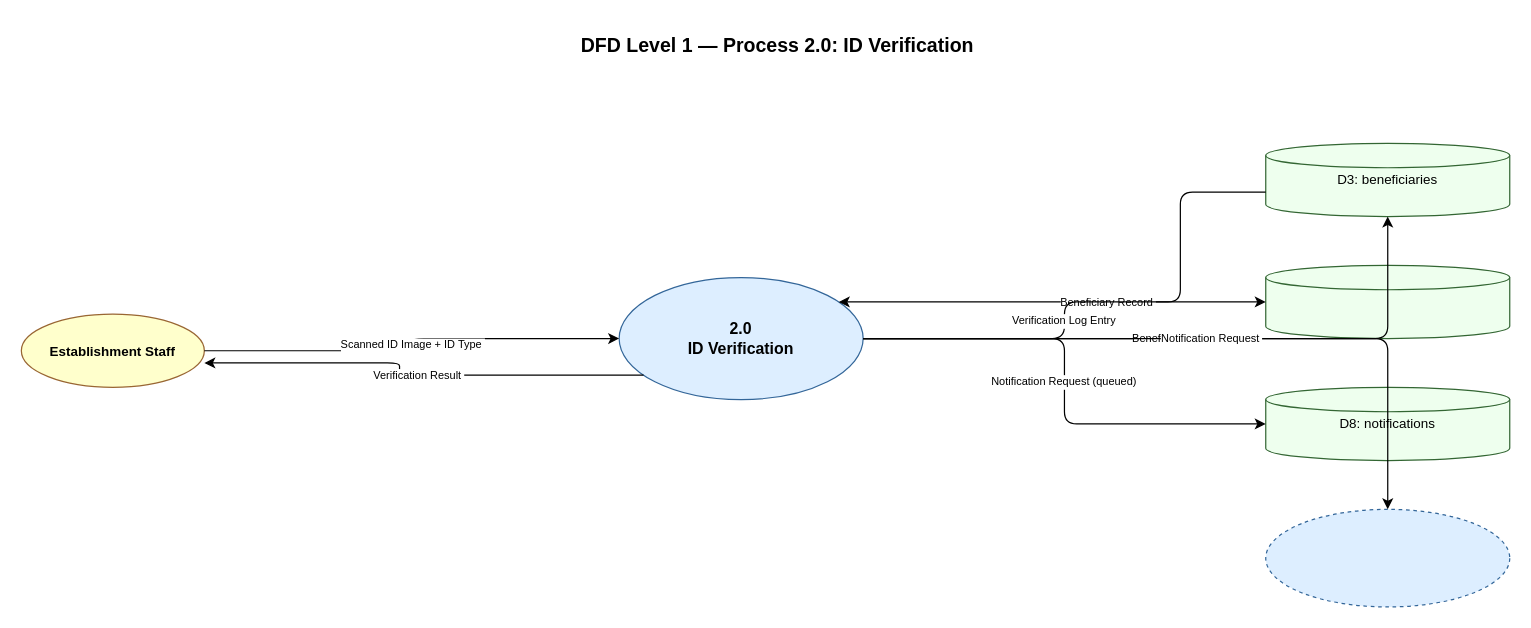
This 1531x628 diagram has some shape labels left out. The box of each missing label's shape, as (x1, y1, x2, y2) in pixels:
7.0 Notification Dispatch: (1265, 508, 1510, 607)
D5: verification_logs: (1265, 264, 1510, 339)
